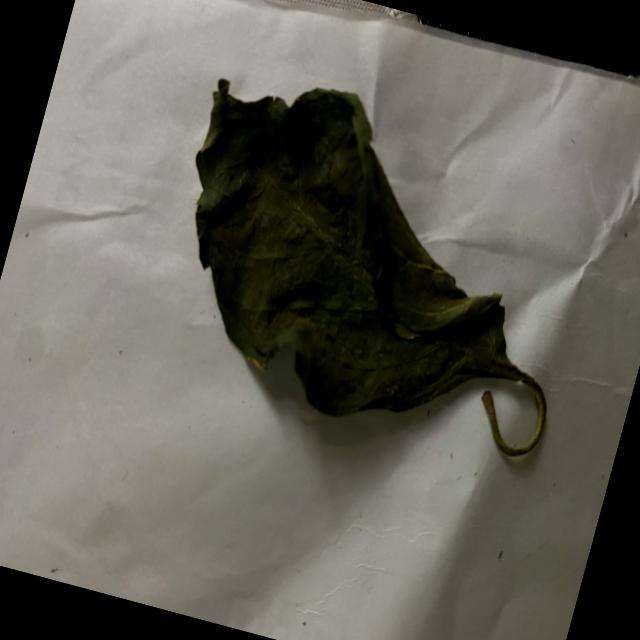Leaf: (138, 57, 562, 460)
